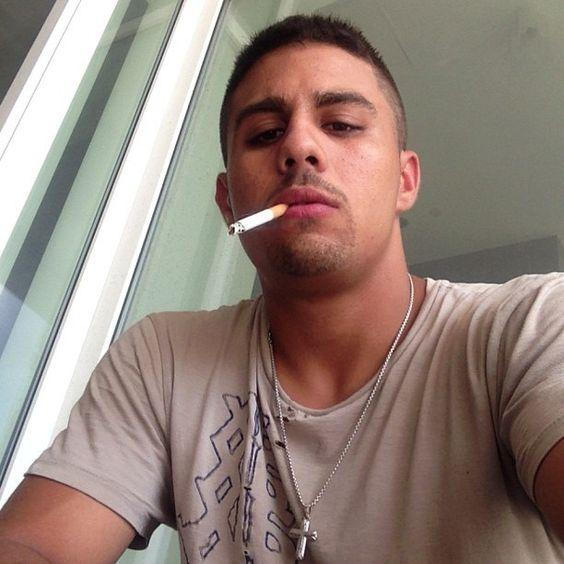cigarette: (226, 203, 289, 237)
